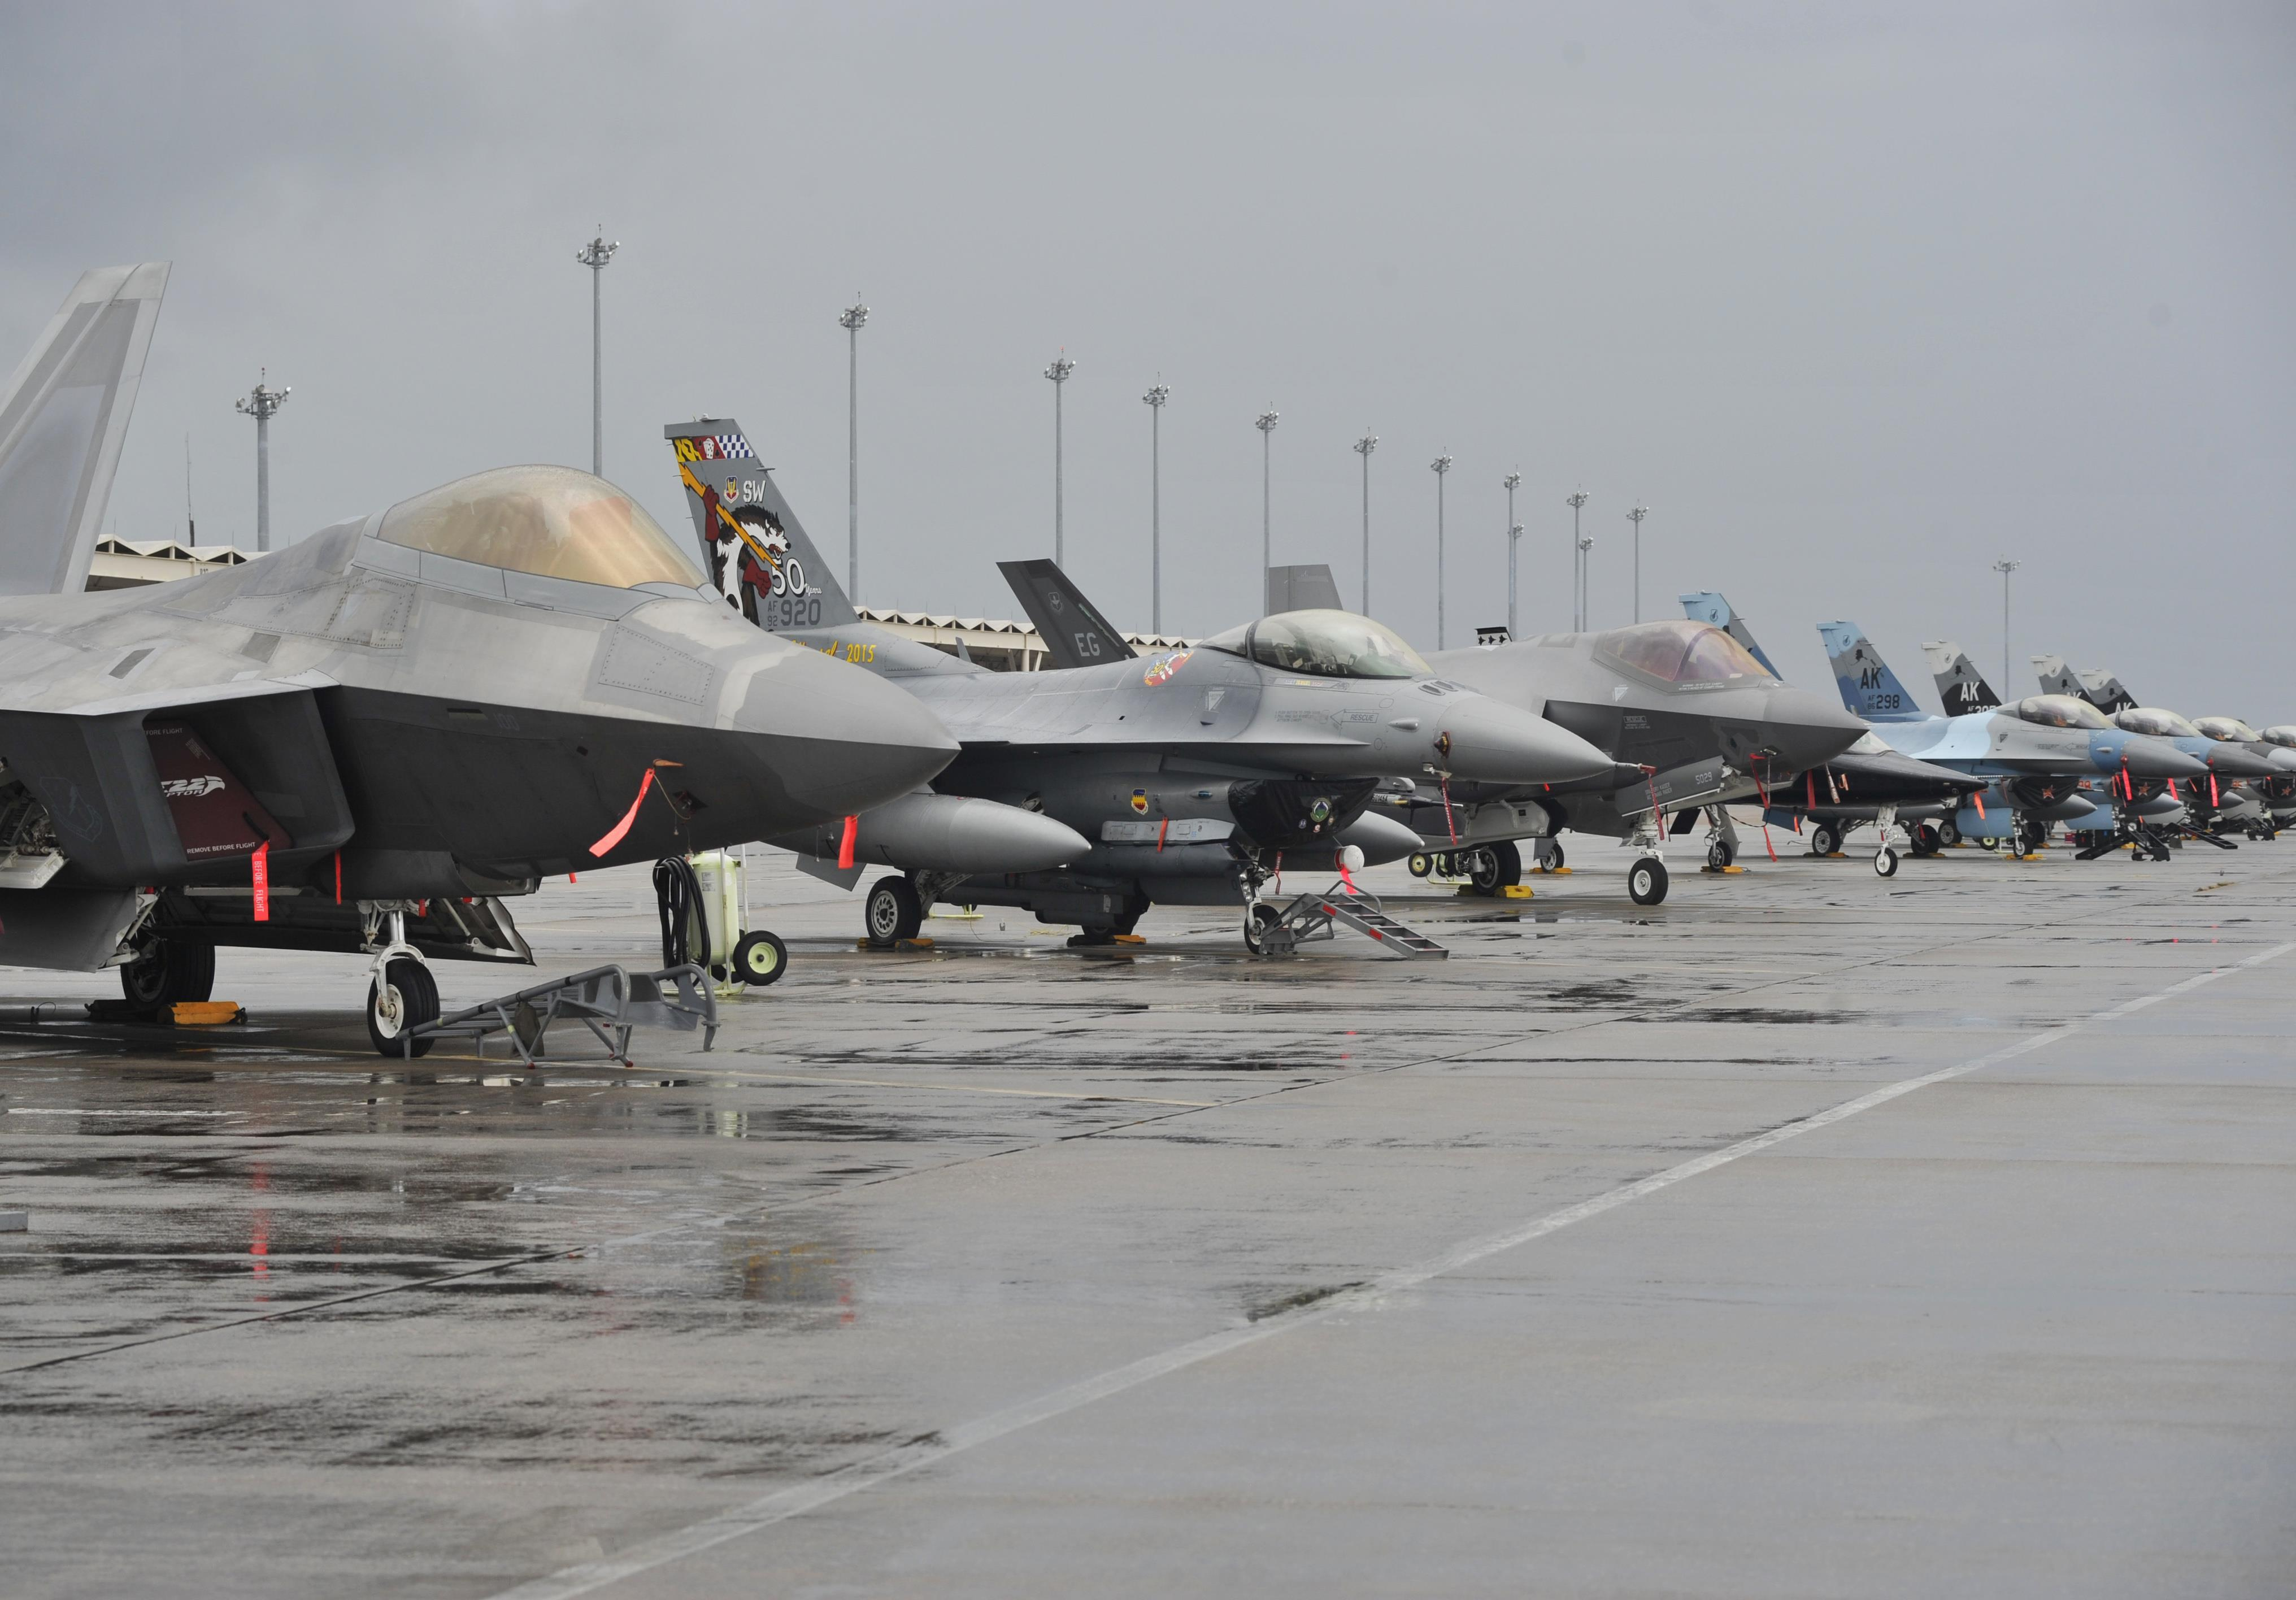F-16: (679, 386, 1661, 996), (1914, 597, 2296, 890)
F-22 Raptor: (37, 297, 994, 1073)
F-35 Lightning: (1466, 557, 1884, 844)
